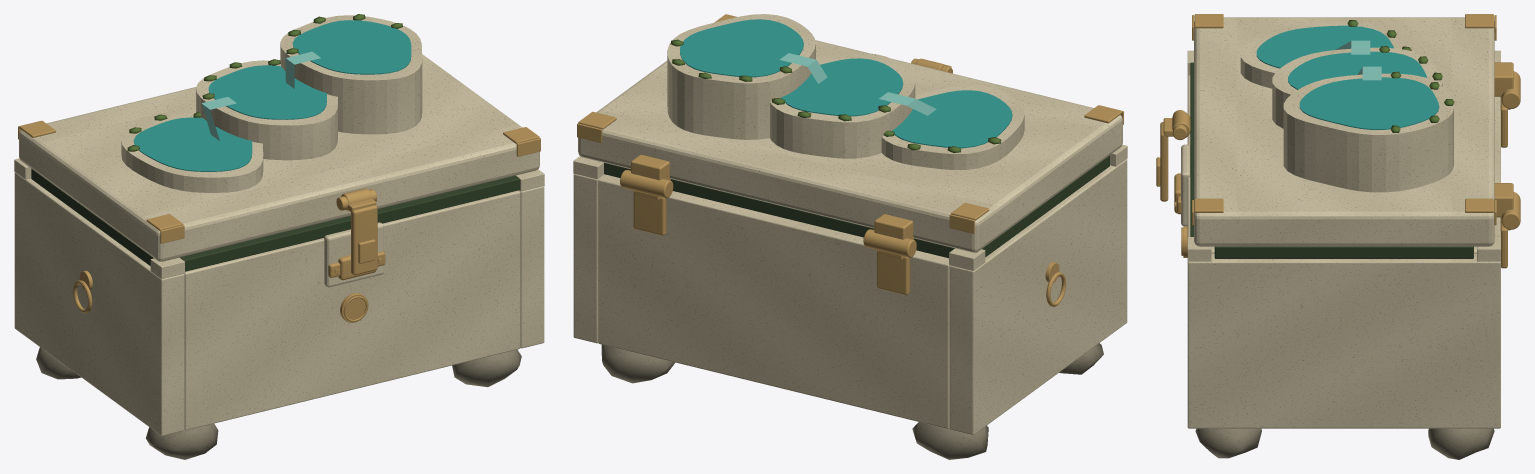
Rendered from croatia.glb.
3 renders of one model, left to right at view 1: azimuth 30°, elevation 25°; view 2: azimuth 150°, elevation 25°; view 3: azimuth 270°, elevation 25°, orthographic. The views are drawn at different scales.
Visible parts, largest first — view 1: Tufa / long wall, Lid / polished slab, Tufa / end wall, Terrace / 2, Terrace / 1, Lake / 2, Mineral seam / long, Lake / 0, Lake / 1, Tufa / end wall.001, Terrace / 0, Stone foot (+7 smaller); view 2: Tufa / long wall.001, Lid / polished slab, Tufa / end wall, Terrace / 2, Terrace / 1, Lake / 2, Lake / 0, Lake / 1, Tufa / end wall.001, Terrace / 0, Mineral seam / long.001, Stone foot.001 (+10 smaller); view 3: Tufa / end wall.001, Lid / polished slab, Terrace / 2, Lake / 2, Mineral seam / side.001, Lake / 0, Lake / 1, Terrace / 0, Terrace / 1, Stone foot.003, Stone foot.002, Tufa / long wall.001 (+14 smaller).
Part boxes in pixels (x1,y1,x2,y2): Tufa / long wall: [184, 190, 520, 430]; Lid / polished slab: [19, 54, 539, 261]; Tufa / end wall: [14, 172, 184, 435]; Terrace / 2: [280, 15, 422, 134]; Terrace / 1: [196, 60, 337, 160]; Lake / 2: [292, 20, 411, 74]; Mineral seam / long: [179, 175, 519, 271]; Lake / 0: [133, 117, 252, 171]; Lake / 1: [208, 65, 326, 119]; Tufa / end wall.001: [518, 186, 544, 348]; Terrace / 0: [121, 112, 263, 192]; Stone foot: [146, 423, 218, 459]; Tufa / long wall.001: [598, 174, 949, 428]; Lid / polished slab: [578, 40, 1122, 252]; Tufa / end wall: [949, 159, 1127, 434]; Terrace / 2: [667, 14, 815, 139]; Terrace / 1: [770, 53, 915, 158]; Lake / 2: [680, 19, 803, 77]; Lake / 0: [892, 90, 1012, 148]; Lake / 1: [781, 58, 903, 116]; Tufa / end wall.001: [573, 173, 605, 343]; Terrace / 0: [881, 85, 1024, 170]; Mineral seam / long.001: [604, 162, 954, 258]; Stone foot.001: [912, 422, 988, 459]; Tufa / end wall.001: [1187, 254, 1500, 428]; Lid / polished slab: [1194, 17, 1494, 246]; Terrace / 2: [1283, 73, 1453, 192]; Lake / 2: [1299, 77, 1439, 129]; Mineral seam / side.001: [1214, 246, 1473, 258]; Lake / 0: [1256, 25, 1393, 68]; Lake / 1: [1288, 51, 1427, 89]; Terrace / 0: [1240, 22, 1407, 88]; Terrace / 1: [1272, 47, 1442, 128]; Stone foot.003: [1428, 428, 1494, 459]; Stone foot.002: [1195, 428, 1261, 458]; Tufa / long wall.001: [1494, 96, 1500, 236].
Bounding box in the file's own units: 3.79 × 2.81 × 2.88.
7 materials, 2 textured.
